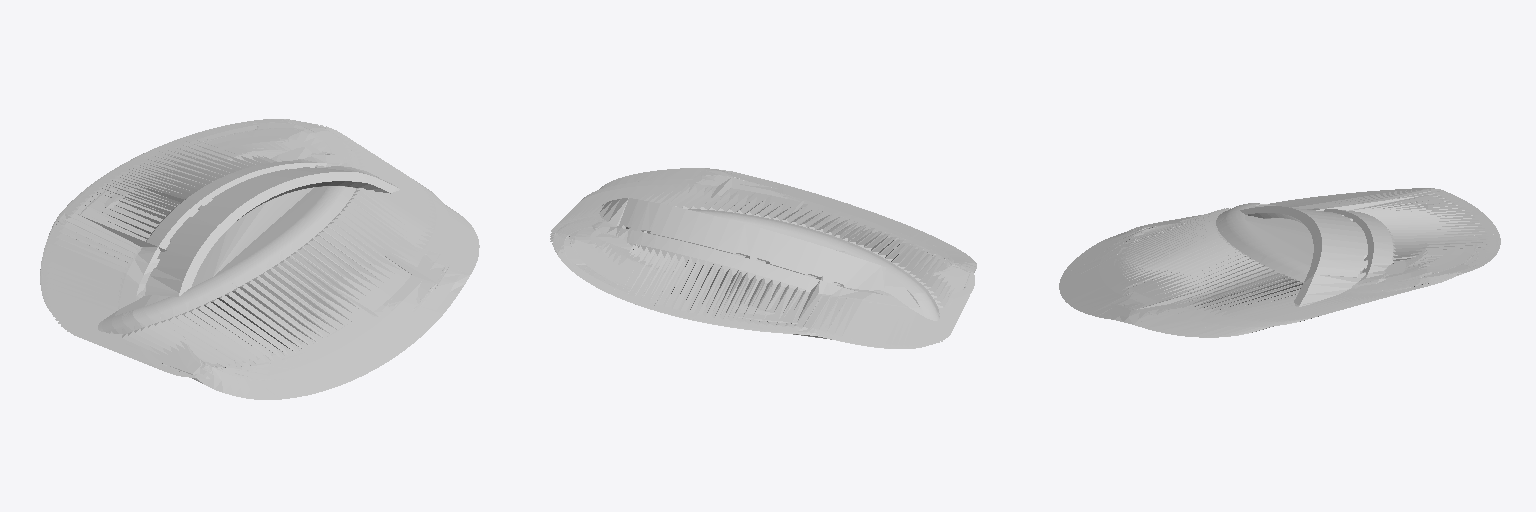
The model's file is bottle_cap_short.004.obj.
3 renders of one model, left to right at view 1: azimuth 30°, elevation 25°; view 2: azimuth 150°, elevation 25°; view 3: azimuth 270°, elevation 25°, orthographic.
Visible parts, largest first — view 1: bottle_cap_short.004; view 2: bottle_cap_short.004; view 3: bottle_cap_short.004.
Part boxes in pixels (left/top/right/bottom): bottle_cap_short.004: left=40, top=119, right=479, bottom=399; bottle_cap_short.004: left=550, top=168, right=976, bottom=348; bottle_cap_short.004: left=1059, top=188, right=1500, bottom=337.
Bounding box in the file's own units: 0.0325 × 0.0079 × 0.0336.